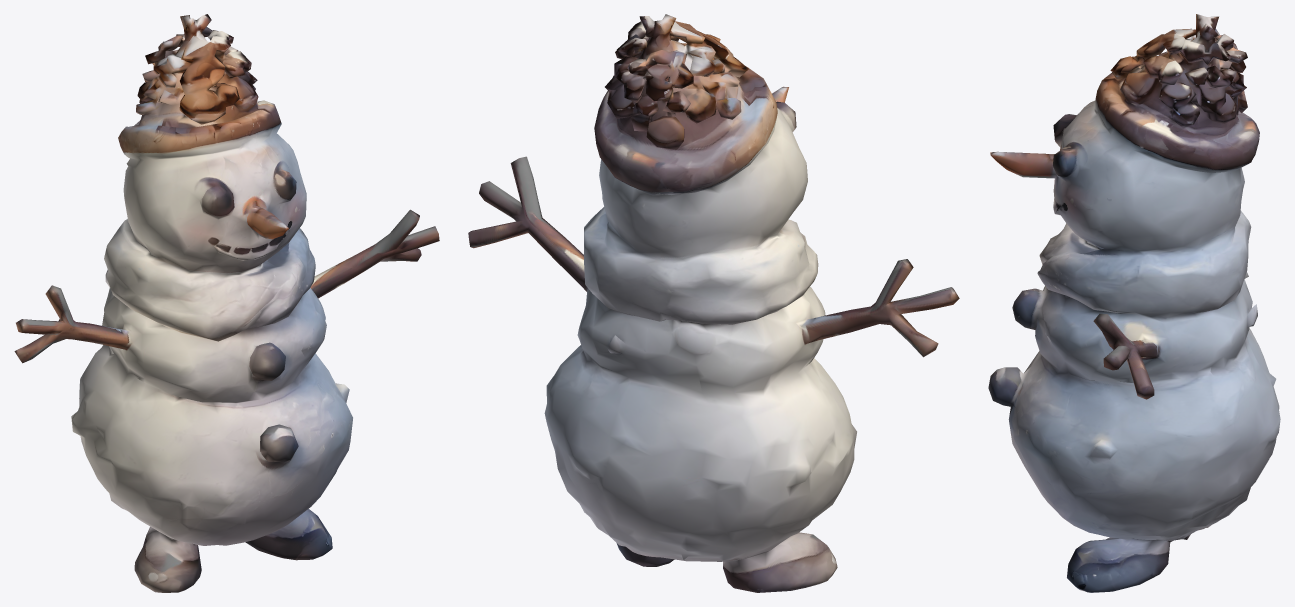
Rendered from StylizedSnowman.obj.
The picture shows the model from 3 angles, left to right: view 1: azimuth 30°, elevation 25°; view 2: azimuth 150°, elevation 25°; view 3: azimuth 270°, elevation 25°; orthographic projection. The views are drawn at different scales.
Visible parts, largest first — view 1: tripo_node_dfbb1718-c167-4bb2-99df-2f02d046fd0f; view 2: tripo_node_dfbb1718-c167-4bb2-99df-2f02d046fd0f; view 3: tripo_node_dfbb1718-c167-4bb2-99df-2f02d046fd0f.
Part boxes in pixels (x1,y1,x2,y2): tripo_node_dfbb1718-c167-4bb2-99df-2f02d046fd0f: (14, 14, 439, 592); tripo_node_dfbb1718-c167-4bb2-99df-2f02d046fd0f: (468, 14, 959, 592); tripo_node_dfbb1718-c167-4bb2-99df-2f02d046fd0f: (988, 14, 1280, 592).
Size of the model in its own units: 0.8511 by 1 by 0.4913.
1 material, 1 textured.
